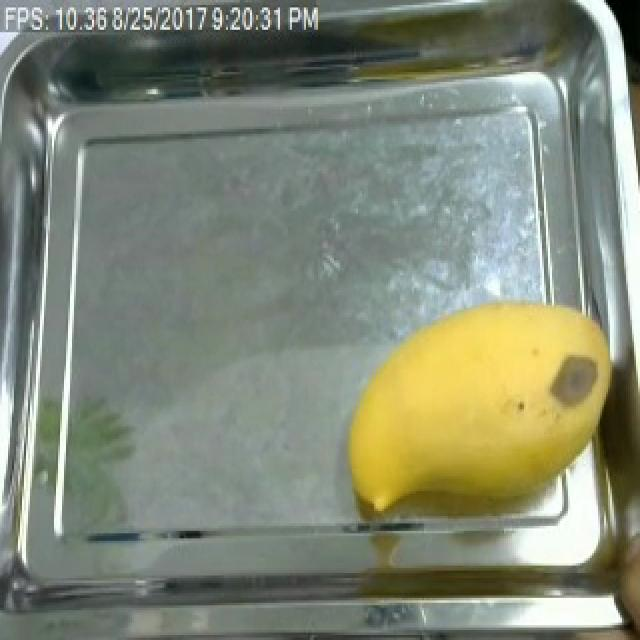fruit: (328, 285, 624, 536)
